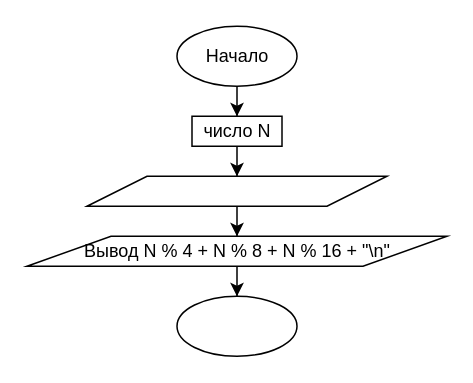
Some shapes in this 473 by 383 pixel diagram are drawn without their labels. Here are the shapes that lost their labels. From the top down, the box of each, then its label:
(86, 175, 387, 206): Ввод значения числа N
(176, 295, 297, 356): Конец
